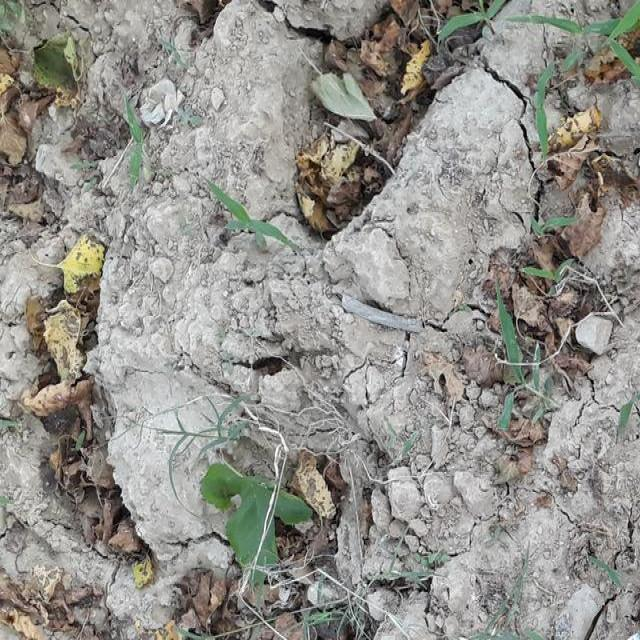weed: (220, 458, 300, 573), (205, 170, 286, 254), (490, 296, 532, 427), (546, 18, 640, 74), (164, 408, 259, 453), (110, 97, 152, 179), (446, 1, 513, 36), (534, 85, 551, 160)
